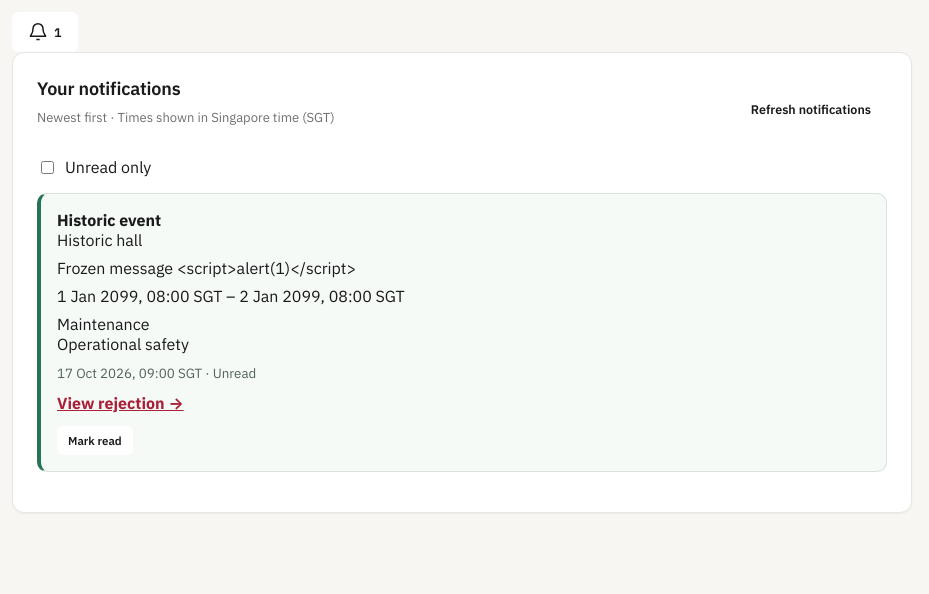
failed click retains the notification and actionable warning even when list reads work
The width and height of the screenshot is (929, 594).
Expected: the text "Historic event" is shown, [57,210,161,230]
Click the link with aria-label "Open notification": (109,220) [57,210,404,412]
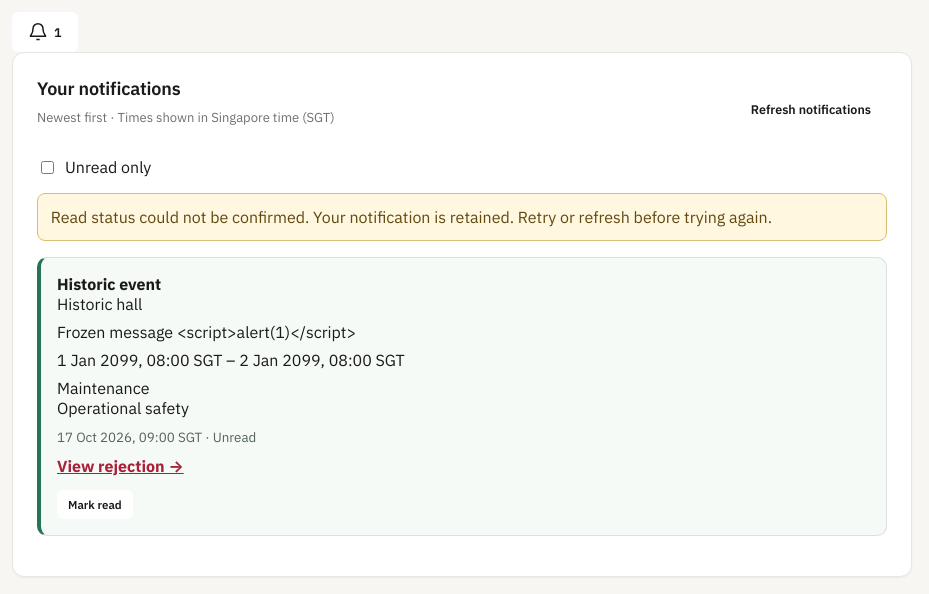
Expected: the button "Mark read" is enabled, [57,490,133,519]
Expected: the message is shown, [37,193,887,241]
Expected: the message shows "Read status could not be confirmed", [51,207,772,227]
